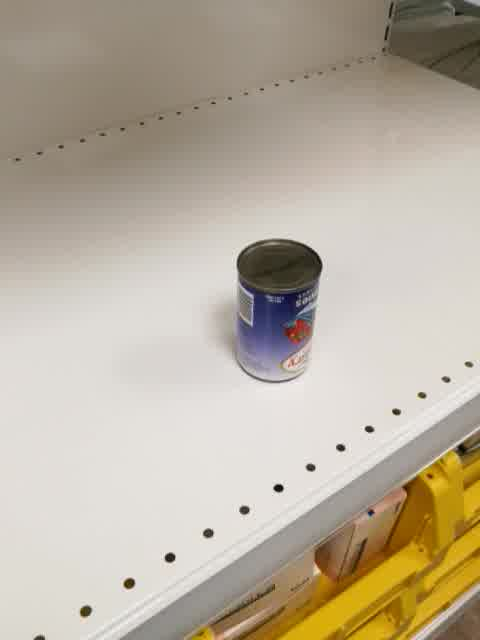sardine: (233, 238, 323, 385)
